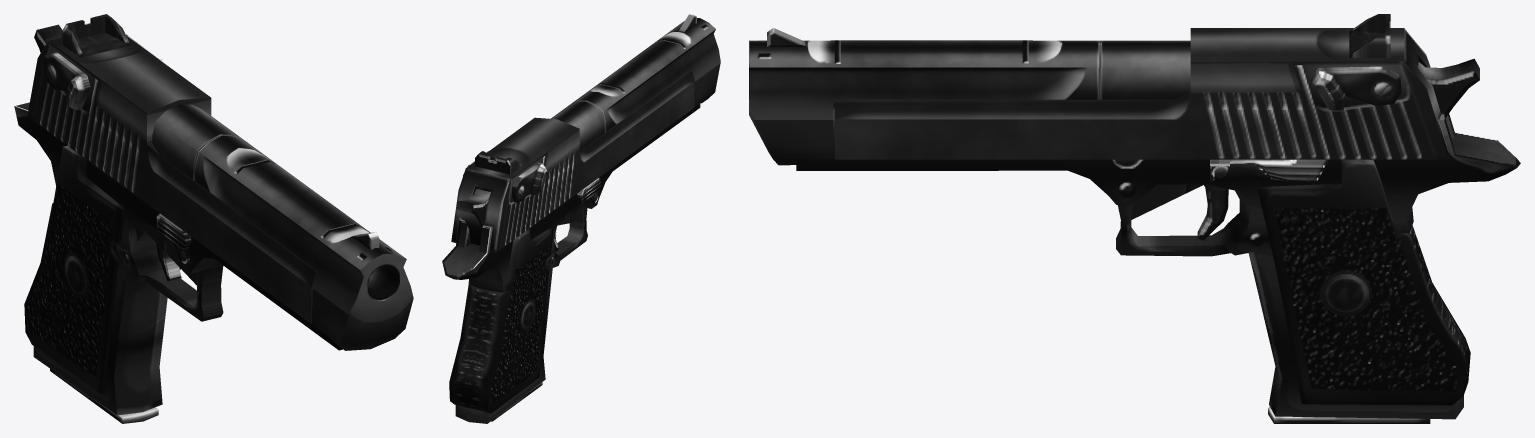
The picture shows the model from 3 angles, left to right: view 1: azimuth 30°, elevation 25°; view 2: azimuth 150°, elevation 25°; view 3: azimuth 270°, elevation 25°; orthographic projection. The views are drawn at different scales.
Parts seen in each view (by area): view 1: mqo_mesh; view 2: mqo_mesh; view 3: mqo_mesh.
Boxes of the visible parts, x1=… form: mqo_mesh: x1=14, y1=14, x2=413, y2=423; mqo_mesh: x1=442, y1=14, x2=720, y2=423; mqo_mesh: x1=749, y1=14, x2=1520, y2=423.
Bounding box in the file's own units: 40.94 × 162 × 291.
